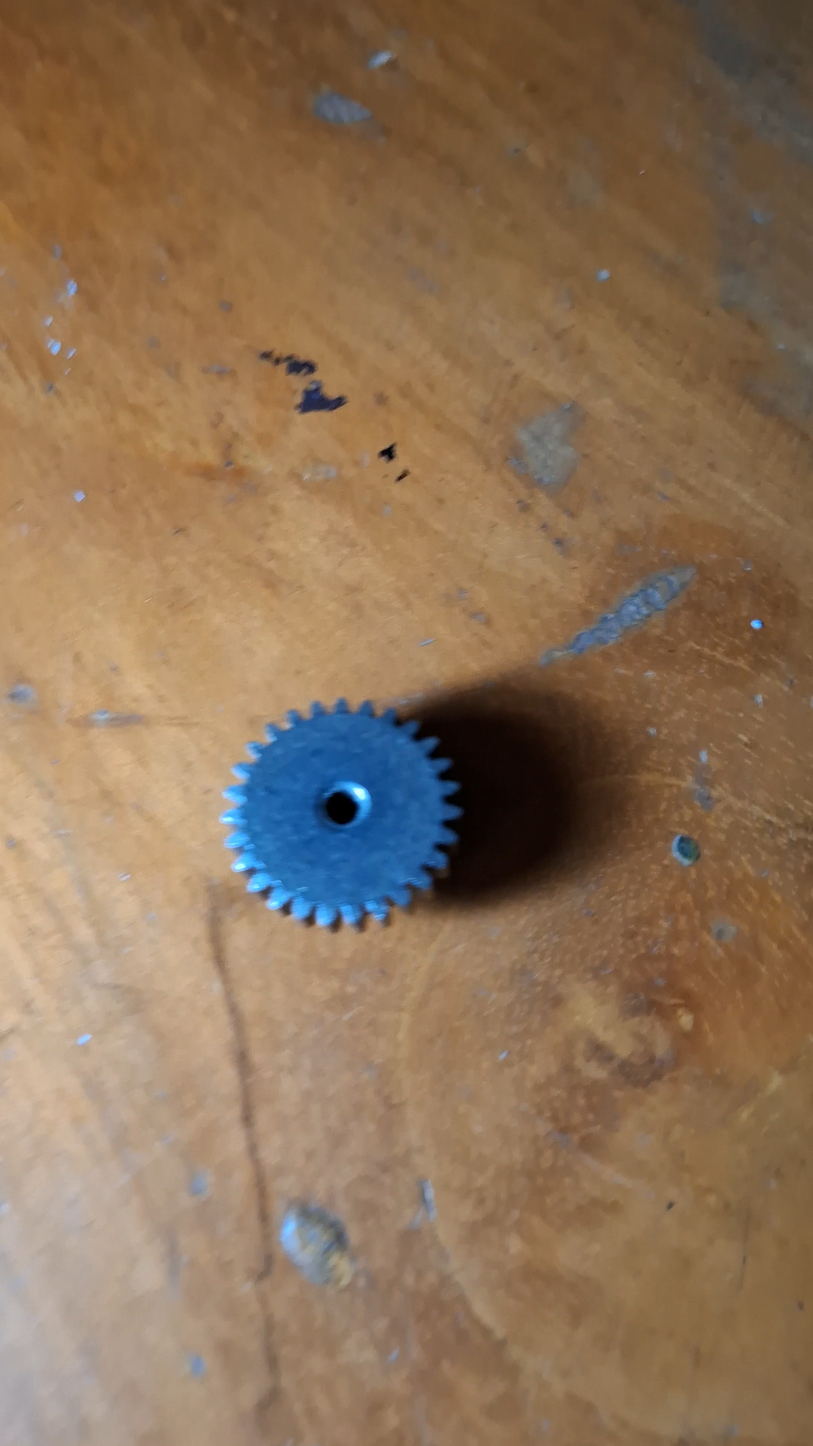spur gear: (222, 700, 461, 926)
